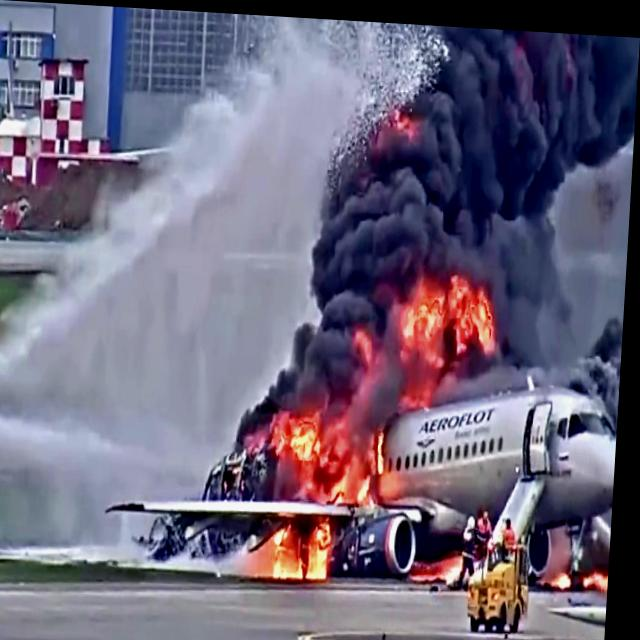smoke: (433, 21, 575, 196), (335, 123, 433, 285)
